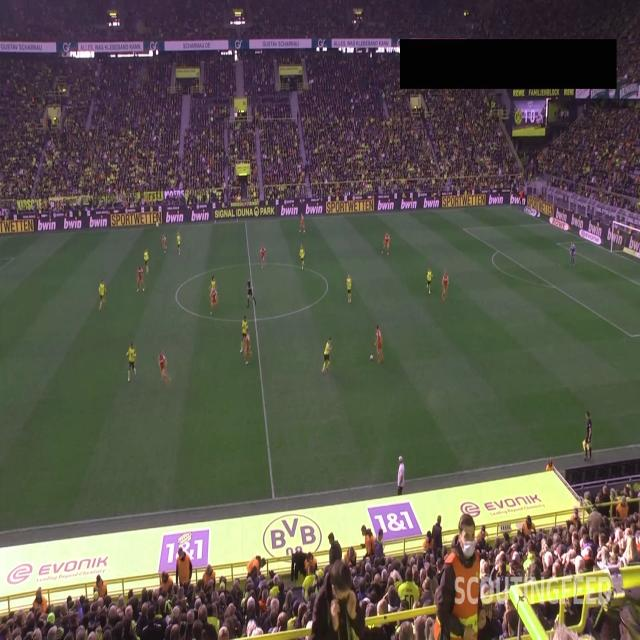ball: (368, 354, 374, 362)
f_player: (156, 348, 172, 386), (125, 341, 137, 383), (321, 335, 333, 376), (96, 277, 108, 314), (374, 324, 384, 366), (244, 326, 254, 366), (239, 314, 249, 354), (134, 262, 146, 294), (210, 284, 220, 316), (441, 270, 450, 302), (380, 230, 390, 258), (142, 244, 150, 276), (345, 273, 353, 305), (426, 266, 434, 294), (568, 240, 576, 268), (298, 244, 306, 271), (175, 228, 182, 258), (259, 244, 267, 270), (160, 232, 168, 256), (208, 274, 218, 292), (298, 212, 306, 234)
umpire: (245, 278, 257, 310)
